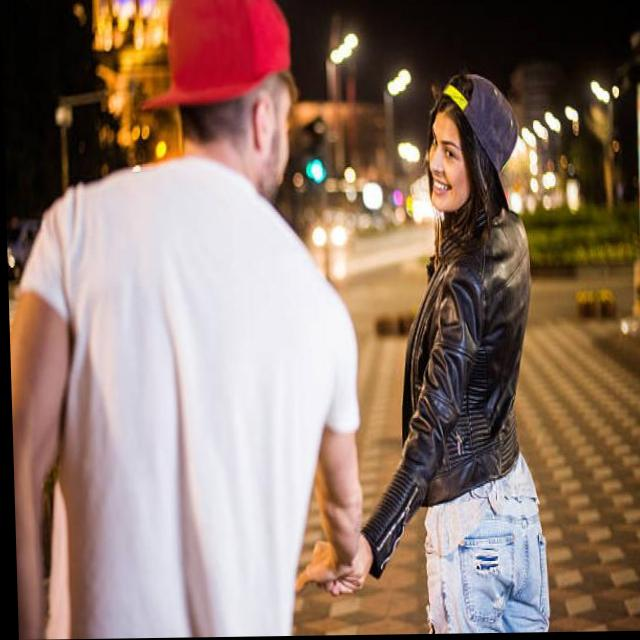no helmet: (159, 0, 306, 208)
